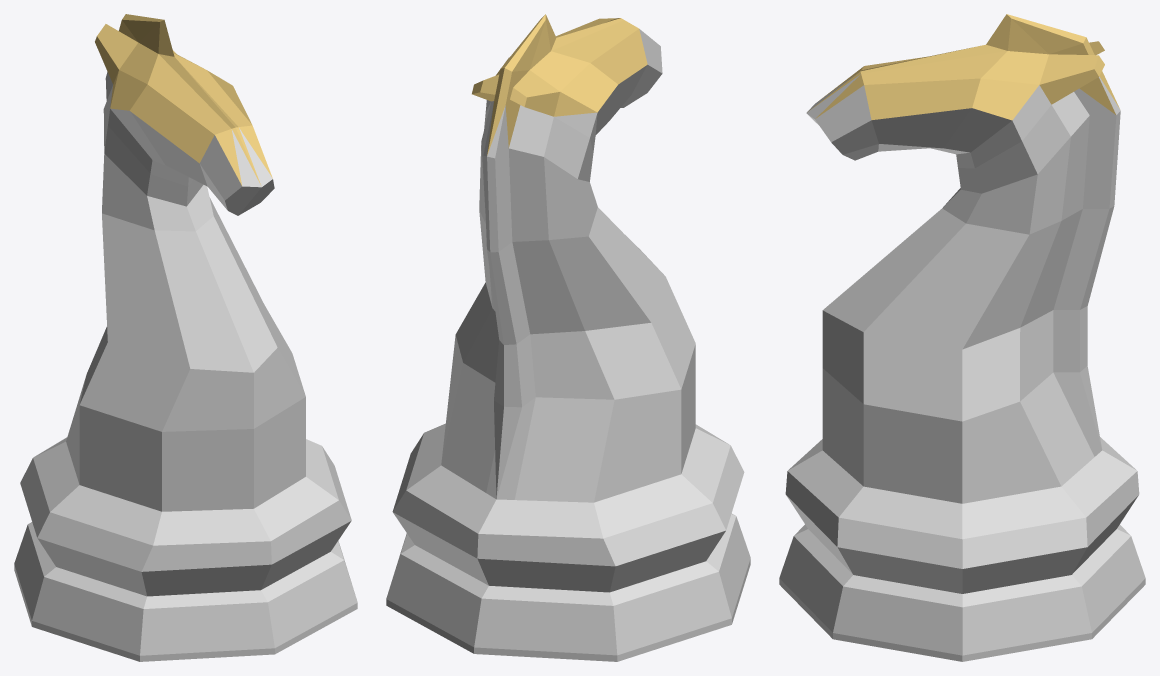
Rendered from gercek5_n_w.glb.
The picture shows the model from 3 angles, left to right: view 1: azimuth 30°, elevation 25°; view 2: azimuth 150°, elevation 25°; view 3: azimuth 270°, elevation 25°; orthographic projection. The views are drawn at different scales.
Parts seen in each view (by area): view 1: n_w; view 2: n_w; view 3: n_w.
Boxes of the visible parts, x1,y1,x2,y2 form: n_w: (14, 14, 357, 661); n_w: (386, 14, 750, 661); n_w: (779, 14, 1145, 661).
Bounding box in the file's own units: 0.5239 × 0.9 × 0.5239.
